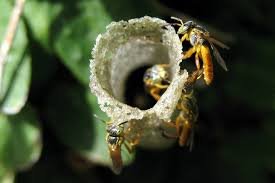jataí: (168, 13, 234, 92), (86, 111, 145, 179), (166, 92, 205, 157), (140, 56, 170, 103)
